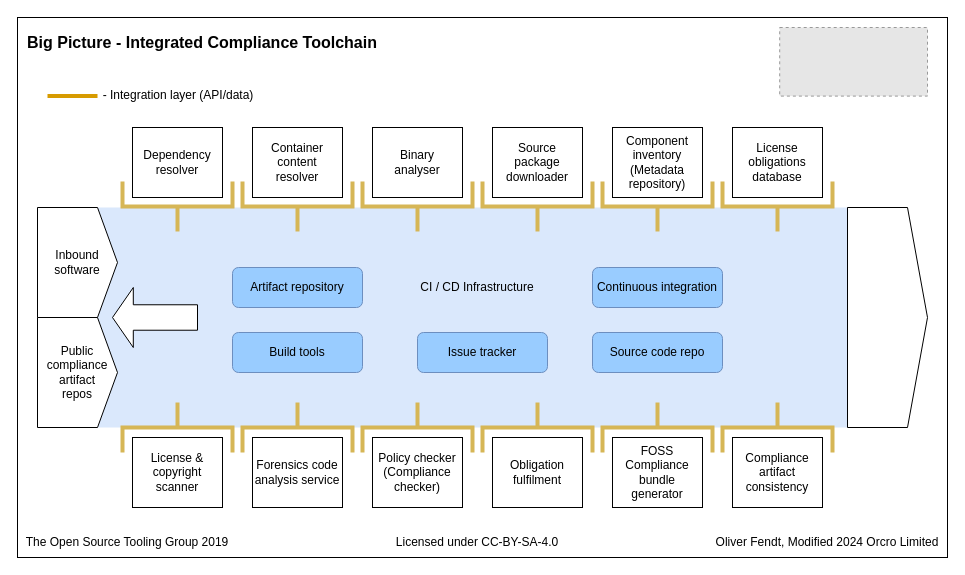
The diagram is 965 pixels wide and 575 high, and some of its shapes have lost their labels. Grey dashed boxes stand in for pictures. Each missing label, with the centre of its shape:
Contributions: point 155,317
Outbound software & compliance artifacts: point 887,317
